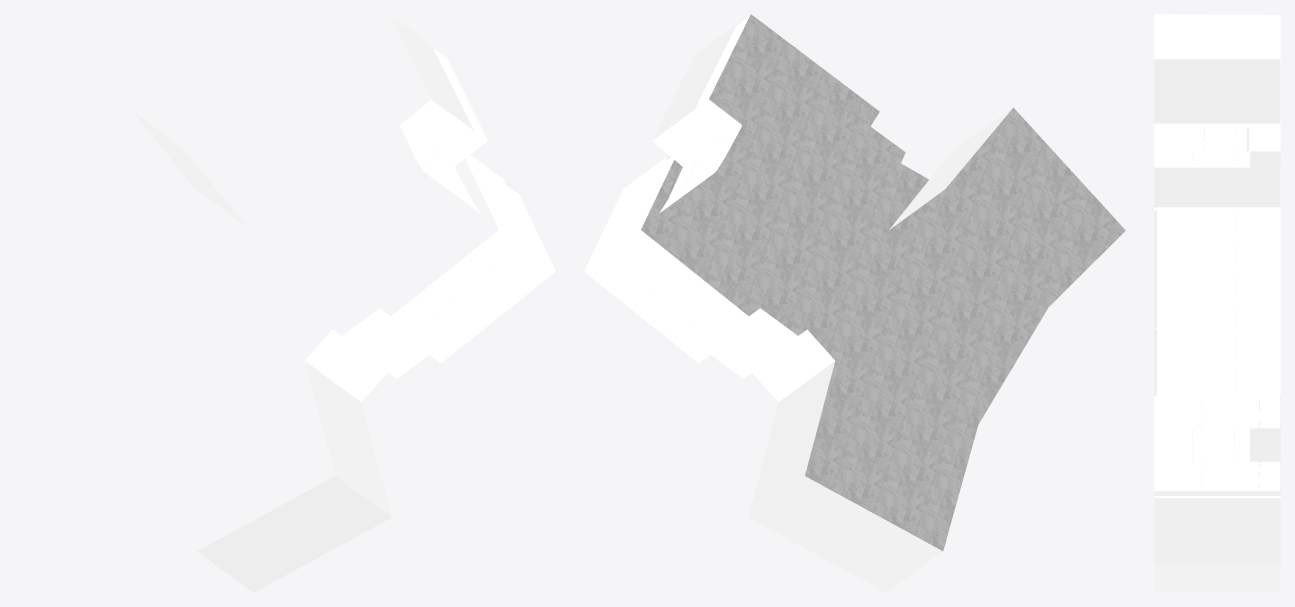
The picture shows the model from 3 angles, left to right: view 1: azimuth 30°, elevation 25°; view 2: azimuth 150°, elevation 25°; view 3: azimuth 270°, elevation 25°; orthographic projection. The views are drawn at different scales.
Parts seen in each view (by area): view 1: BuildingMaster_2008193385454462639400000000_0; view 2: BuildingMaster_2008193385454462639400000000_1, BuildingMaster_2008193385454462639400000000_0; view 3: BuildingMaster_2008193385454462639400000000_0.
Part boxes in pixels (x1,y1,x2,y2): BuildingMaster_2008193385454462639400000000_0: [129, 14, 555, 592]; BuildingMaster_2008193385454462639400000000_1: [641, 14, 1125, 550]; BuildingMaster_2008193385454462639400000000_0: [584, 14, 1012, 592]; BuildingMaster_2008193385454462639400000000_0: [1154, 14, 1280, 592].
Bounding box in the file's own units: 51.75 × 50 × 10.5.
